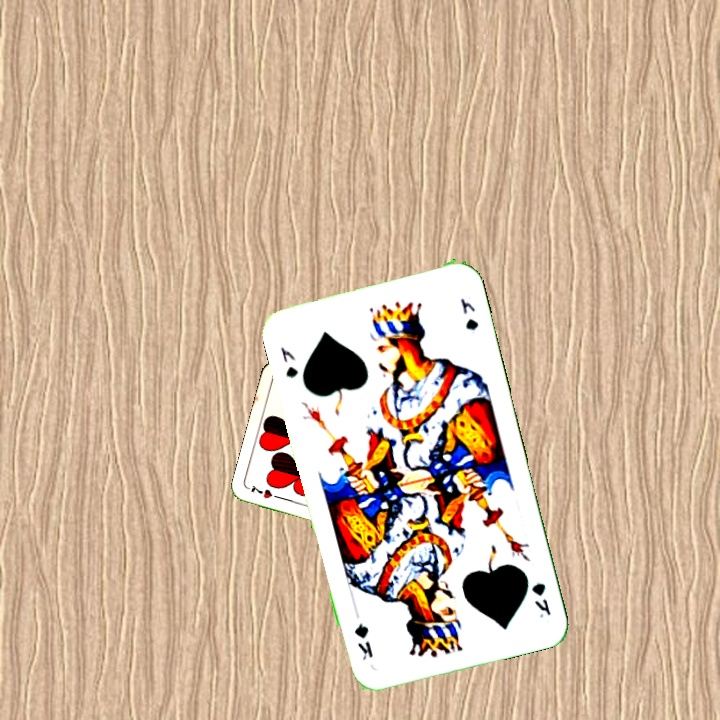GK: (527, 578, 554, 621), (276, 343, 301, 381)
H7: (247, 482, 285, 502)
